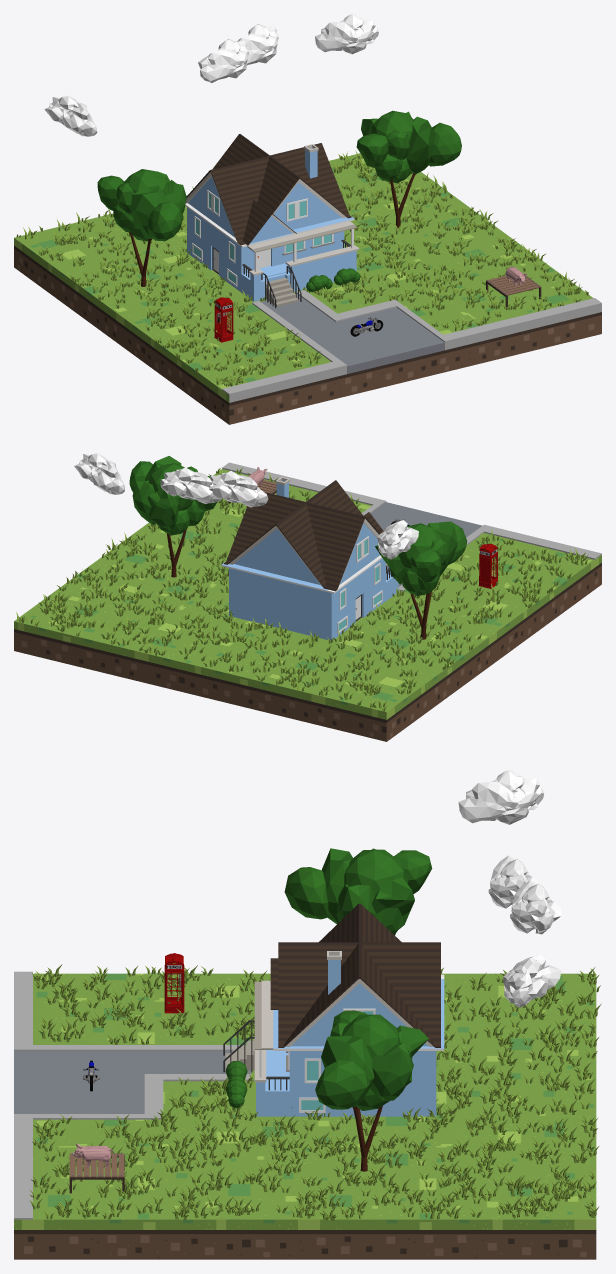
3 views of the same model, one above another, from view 1: azimuth 30°, elevation 25°; view 2: azimuth 150°, elevation 25°; view 3: azimuth 270°, elevation 25° (orthographic). The views are drawn at different scales.
Visible parts, largest first — view 1: Cube.006, Cube.1594, Circle.012_Grass_0.192, Cube.007, tree, tree.001, OBJRANDOM_PHONEBOOTH, Cube.009; view 2: Cube.006, Cube.1594, Circle.012_Grass_0.192, Cube.007, tree.001, tree, OBJRANDOM_PHONEBOOTH; view 3: Cube.006, Circle.012_Grass_0.192, Cube.1594, tree, Cube.007, tree.001, Cube.009, OBJRANDOM_PHONEBOOTH.
Boxes of the visible parts, bbox=[...] form: Cube.006: bbox=[14, 153, 601, 424]; Cube.1594: bbox=[185, 134, 359, 308]; Circle.012_Grass_0.192: bbox=[16, 150, 588, 386]; Cube.007: bbox=[44, 14, 378, 136]; tree: bbox=[356, 110, 461, 228]; tree.001: bbox=[97, 169, 186, 286]; OBJRANDOM_PHONEBOOTH: bbox=[214, 297, 233, 342]; Cube.009: bbox=[486, 275, 541, 306]; Cube.006: bbox=[14, 462, 601, 741]; Cube.1594: bbox=[221, 477, 398, 640]; Circle.012_Grass_0.192: bbox=[16, 468, 588, 711]; Cube.007: bbox=[74, 453, 418, 559]; tree.001: bbox=[375, 521, 467, 639]; tree: bbox=[129, 456, 216, 577]; OBJRANDOM_PHONEBOOTH: bbox=[478, 543, 498, 588]; Cube.006: bbox=[14, 971, 596, 1259]; Circle.012_Grass_0.192: bbox=[29, 964, 601, 1220]; Cube.1594: bbox=[223, 903, 444, 1116]; tree: bbox=[315, 1010, 428, 1171]; Cube.007: bbox=[458, 770, 561, 1007]; tree.001: bbox=[284, 848, 432, 935]; Cube.009: bbox=[69, 1153, 124, 1193]; OBJRANDOM_PHONEBOOTH: bbox=[164, 953, 184, 1013].
Bounding box in the file's own units: 4071 × 2153 × 4040.
Materials: 43 (3 with a texture image).
